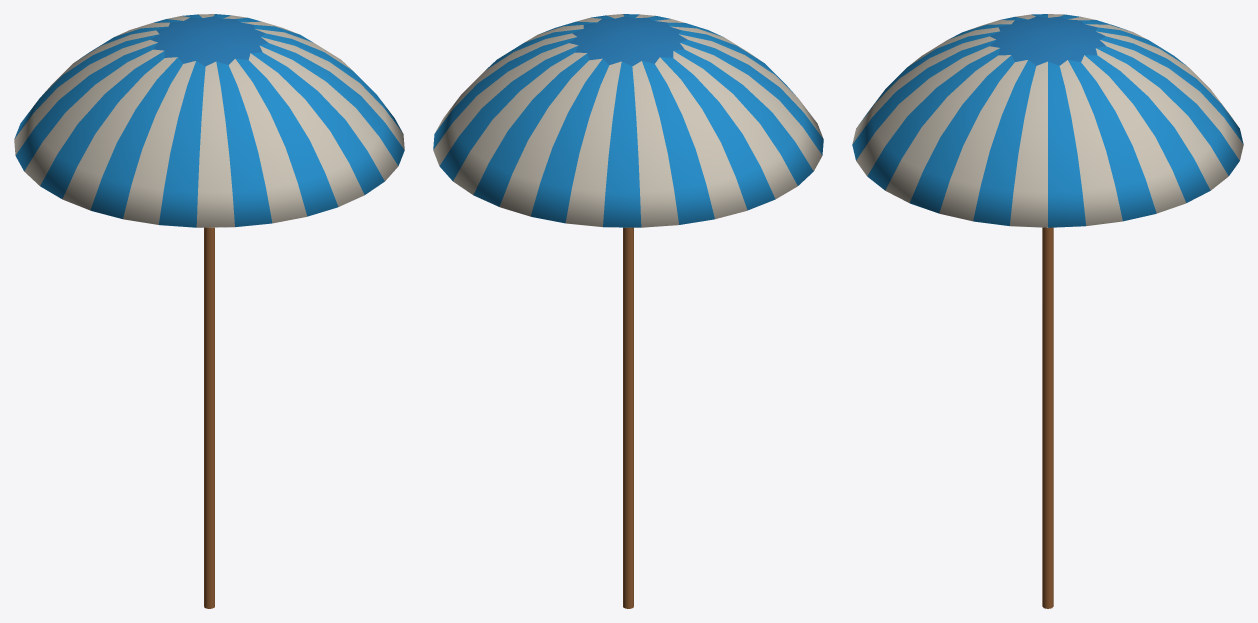
File: UmbrellaBlue.fbx
The picture shows the model from 3 angles, left to right: view 1: azimuth 30°, elevation 25°; view 2: azimuth 150°, elevation 25°; view 3: azimuth 270°, elevation 25°; orthographic projection.
Visible parts, largest first — view 1: kekesernyo; view 2: kekesernyo; view 3: kekesernyo.
Boxes of the visible parts, bbox=[...] form: kekesernyo: bbox=[14, 14, 404, 608]; kekesernyo: bbox=[433, 14, 823, 608]; kekesernyo: bbox=[852, 14, 1243, 608].
Bounding box in the file's own units: 1.71 × 2.77 × 1.71.
Materials: 1 (1 with a texture image).
